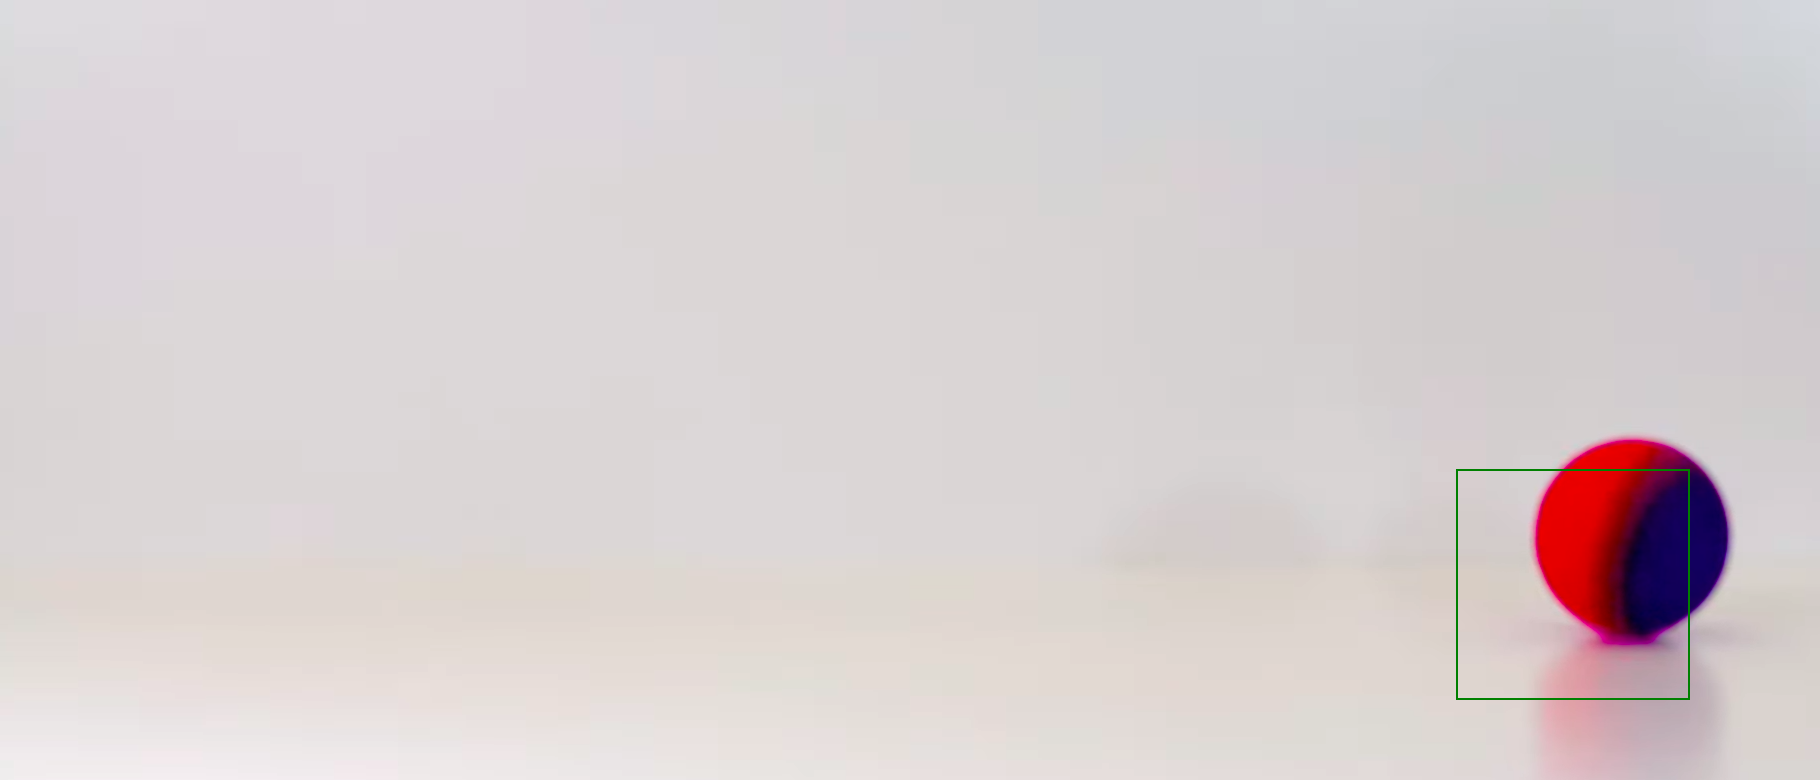Circle: (1534, 436, 1729, 642)
